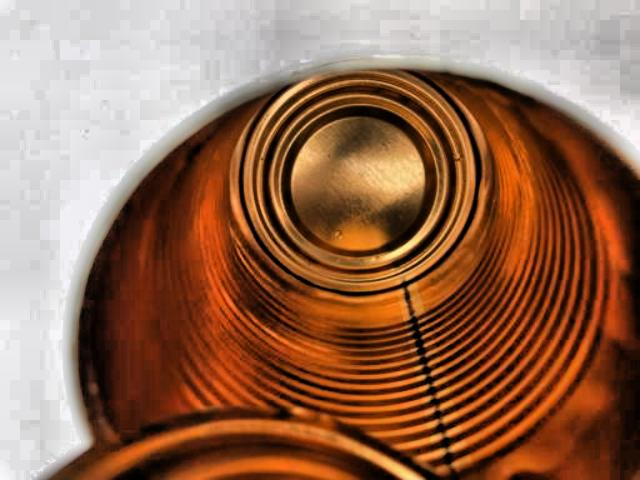Almennt: (65, 39, 640, 480)
